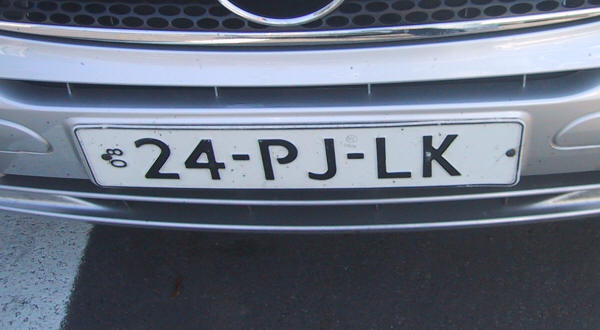license_plate: (73, 124, 526, 186)
